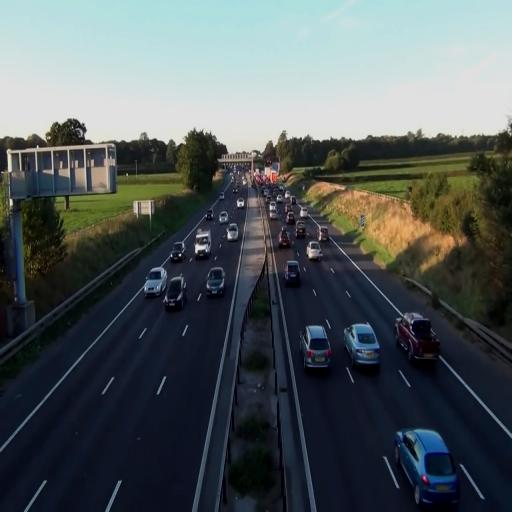vehicle: (394, 427, 460, 508), (396, 314, 442, 366), (344, 322, 381, 366), (301, 324, 332, 371), (164, 276, 187, 311), (144, 266, 167, 296), (205, 267, 226, 297), (284, 259, 301, 286), (306, 241, 323, 262), (278, 227, 292, 249), (170, 242, 184, 262), (226, 223, 239, 241), (296, 220, 308, 238)
